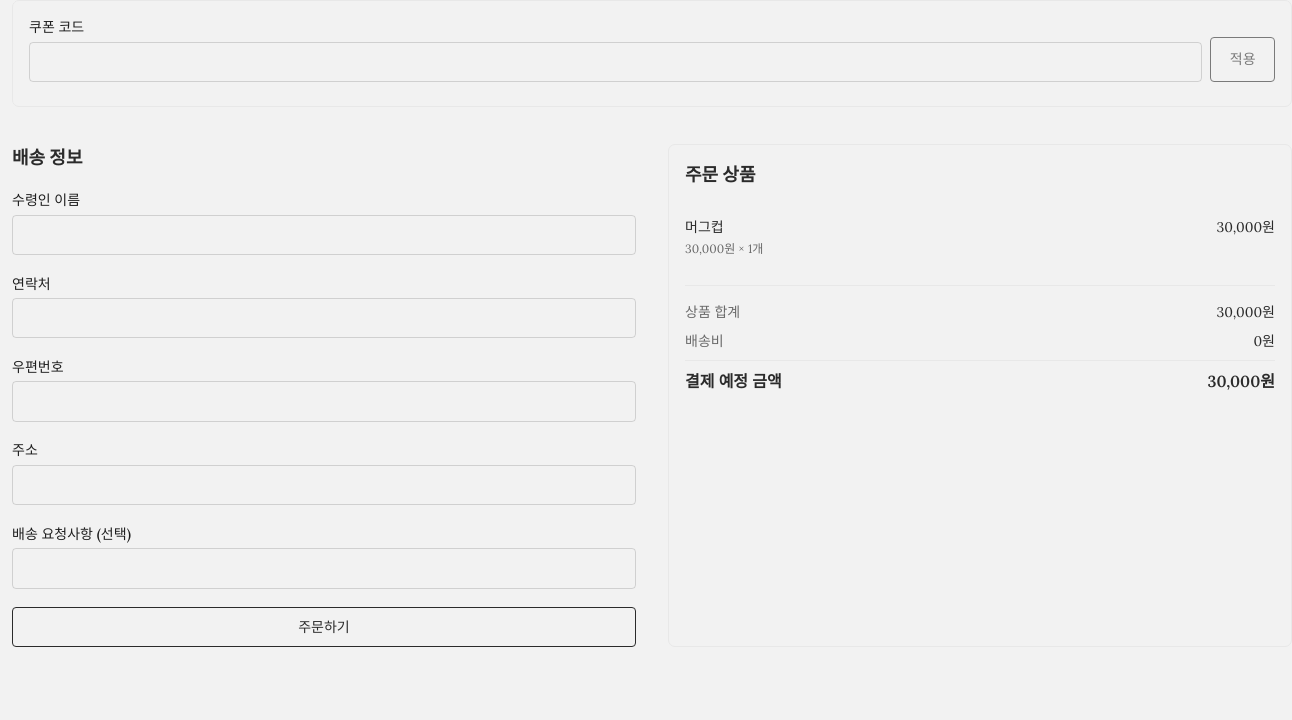
Test: SPEC-DISCOUNT-001 M6b — AC-DISCOUNT-023 (screen structure) › disables the Apply button while a validation request is in flight
Type "SAVE10" into the field labelled "쿠폰 코드". click: (616, 62)
box: [29,42,1202,82]
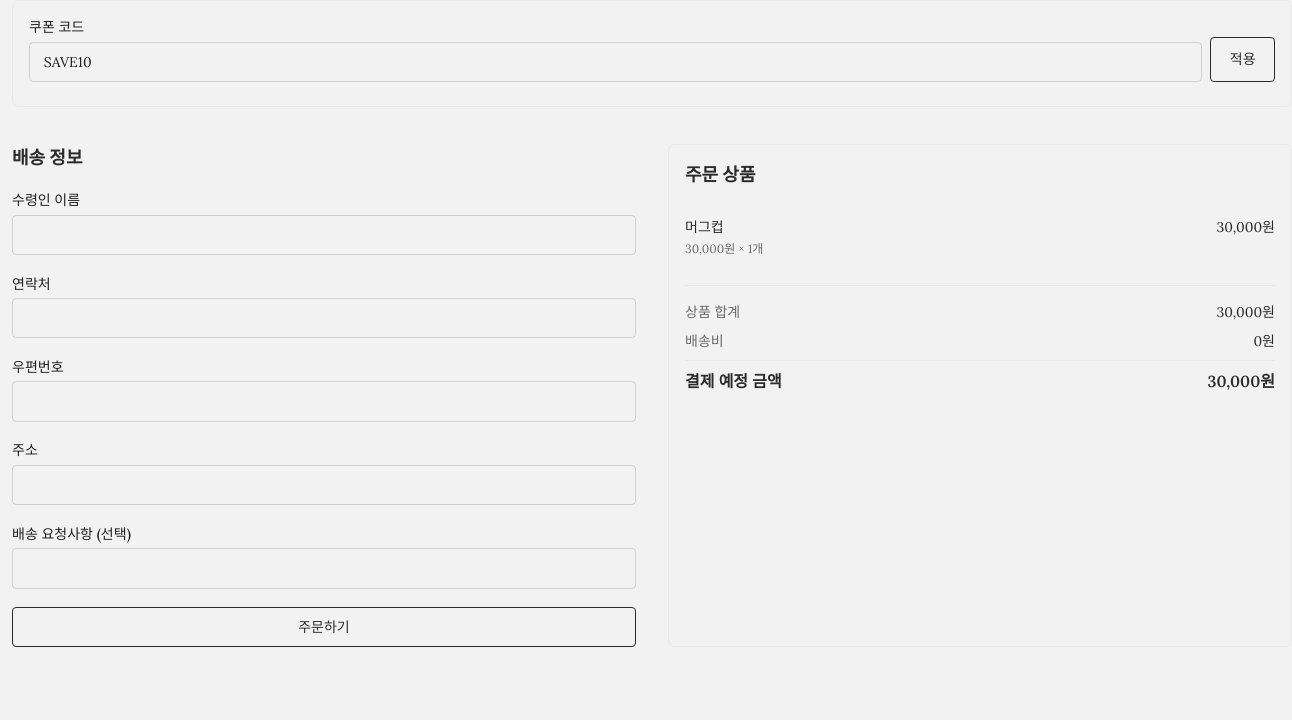
Click the button "적용". click: (1243, 60)
box: [1210,37,1275,82]
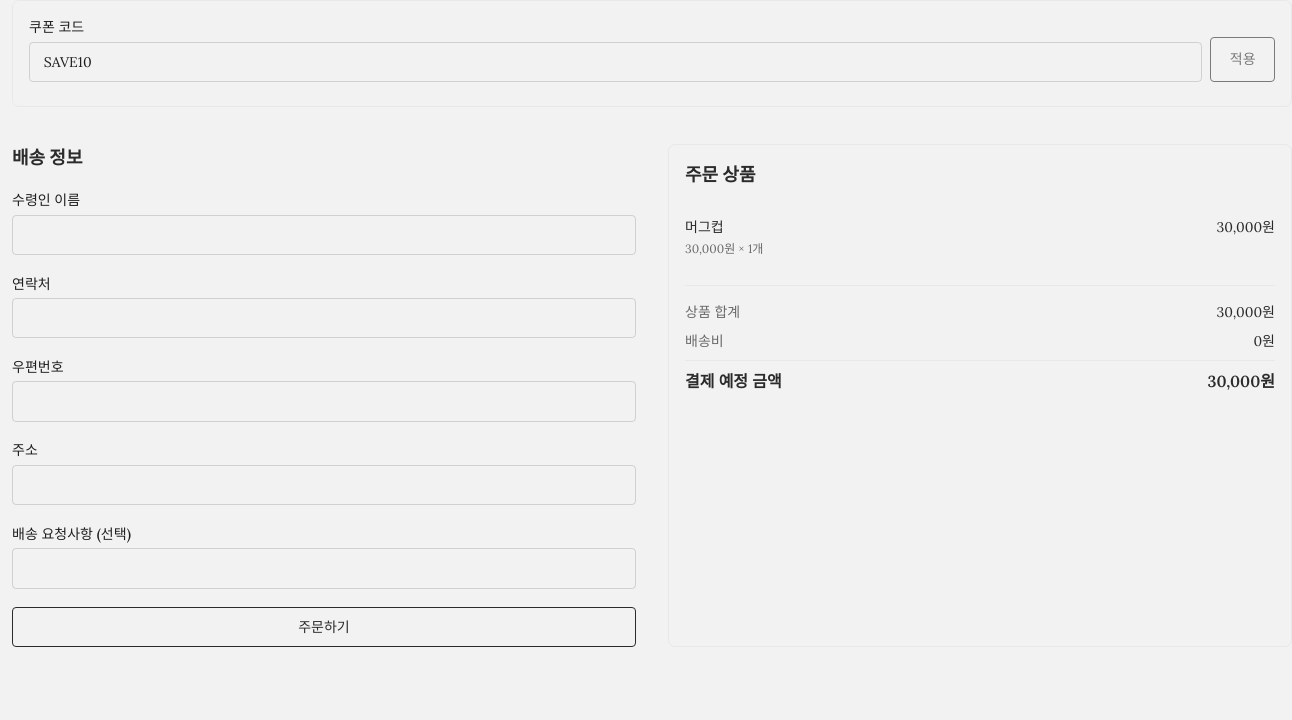
Now the button "적용" is disabled, box [1210,37,1275,82]
